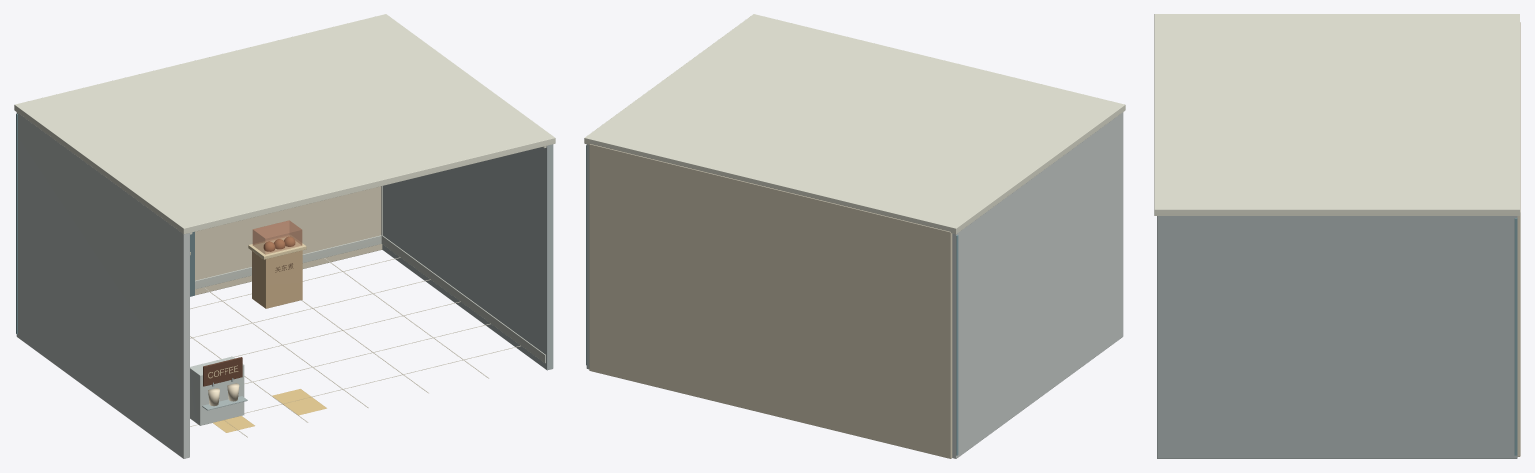
File: interior.glb
3 views of the same model, side by side, from view 1: azimuth 30°, elevation 25°; view 2: azimuth 150°, elevation 25°; view 3: azimuth 270°, elevation 25° (orthographic). The views are drawn at different scales.
Parts seen in each view (by area): view 1: Continuous interior ceiling.001, Left wall shell.001, Right wall shell.001, Back wall shell.001, Rear skirting.001, Web | Interior/0109.001, Web | Interior/0003.001, Web | Interior/0094.001, Web | Interior/0111.001, Web | Interior/0095.001, Web | Interior/0093.001, Web | Interior/0110.001; view 2: Back wall shell.001, Continuous interior ceiling.001, Left wall shell.001, Right wall shell.001, Exterior rear corner fold.002; view 3: Right wall shell.001, Continuous interior ceiling.001, Back wall shell.001, Exterior rear corner fold.002.
Boxes of the visible parts, box(x1,y1,x2,y2) form: Continuous interior ceiling.001: box(14, 14, 555, 234); Left wall shell.001: box(16, 112, 189, 458); Right wall shell.001: box(382, 144, 553, 370); Back wall shell.001: box(195, 186, 382, 295); Rear skirting.001: box(195, 186, 545, 363); Web | Interior/0109.001: box(252, 250, 302, 308); Web | Interior/0003.001: box(190, 257, 520, 437); Web | Interior/0094.001: box(190, 356, 244, 425); Web | Interior/0111.001: box(252, 220, 302, 254); Web | Interior/0095.001: box(203, 357, 242, 386); Web | Interior/0093.001: box(272, 389, 326, 415); Web | Interior/0110.001: box(248, 235, 306, 259); Back wall shell.001: box(589, 144, 952, 458); Continuous interior ceiling.001: box(584, 14, 1125, 234); Left wall shell.001: box(952, 112, 1123, 458); Right wall shell.001: box(586, 144, 589, 369); Exterior rear corner fold.002: box(586, 145, 958, 455); Right wall shell.001: box(1157, 216, 1517, 458); Continuous interior ceiling.001: box(1154, 14, 1519, 215); Back wall shell.001: box(1517, 22, 1520, 456); Exterior rear corner fold.002: box(1514, 218, 1517, 455).
Size of the model in its own units: 9.25 by 5.51 by 7.31.
